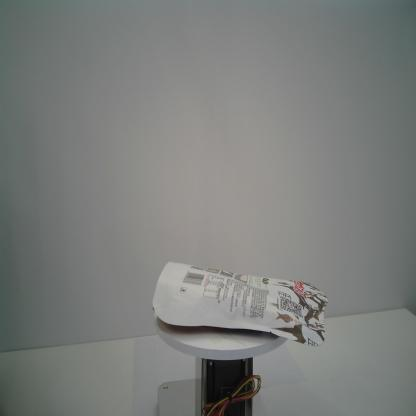Dried Fruit: (150, 260, 328, 346)
